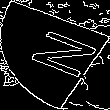N_SE: (13, 25, 97, 85)
